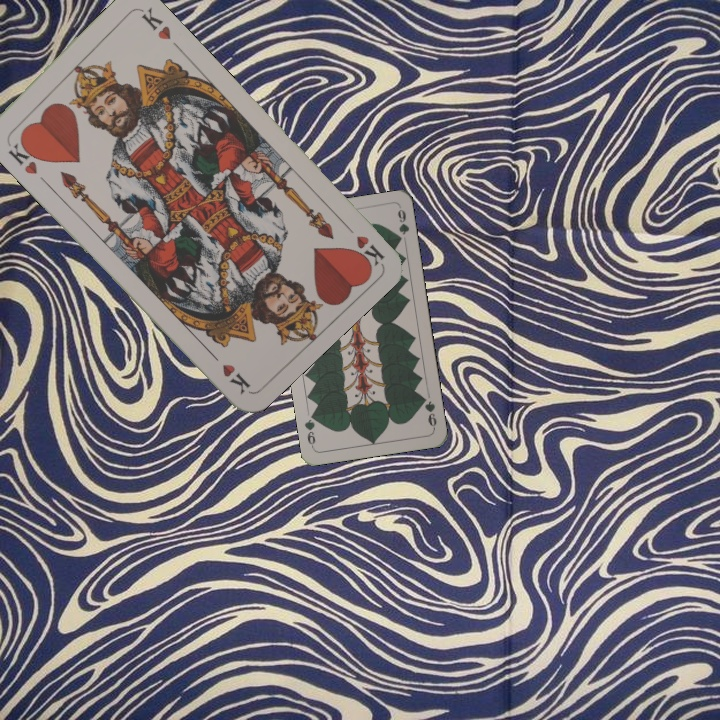G9: (417, 392, 439, 431)
HK: (338, 217, 387, 270), (2, 134, 44, 177)
